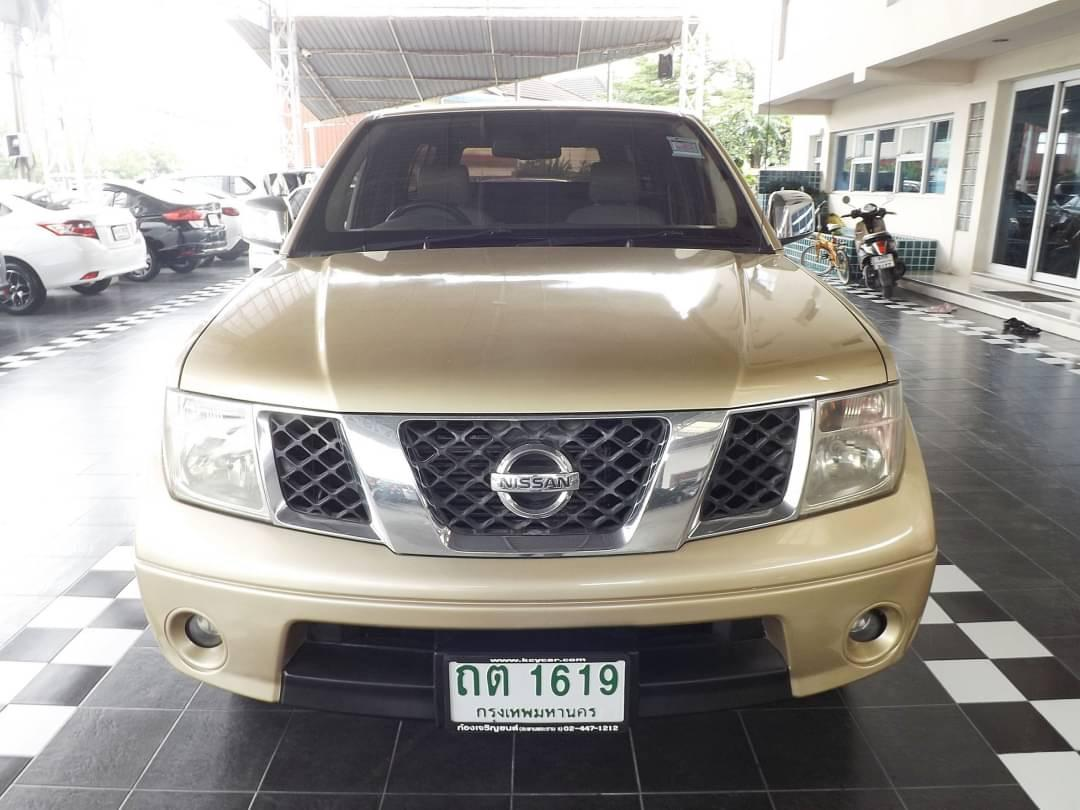license-plate: (432, 646, 634, 733), (110, 221, 134, 244), (205, 212, 222, 228)
